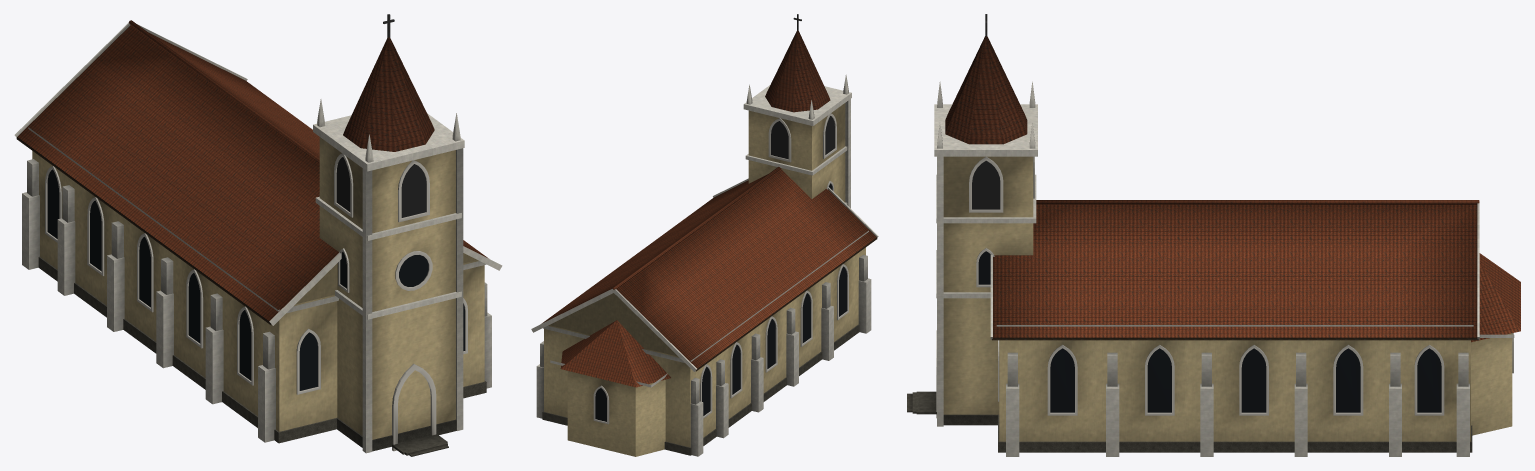
File: church.glb
3 renders of one model, left to right at view 1: azimuth 30°, elevation 25°; view 2: azimuth 150°, elevation 25°; view 3: azimuth 270°, elevation 25°, orthographic. The views are drawn at different scales.
Parts seen in each view (by area): view 1: church_mesh; view 2: church_mesh; view 3: church_mesh.
Boxes of the visible parts, bbox=[...] form: church_mesh: bbox=[14, 14, 502, 456]; church_mesh: bbox=[531, 14, 878, 456]; church_mesh: bbox=[907, 14, 1520, 456].
Bounding box in the file's own units: 13.57 × 23.05 × 32.55.
Materials: 8 (6 with a texture image).
